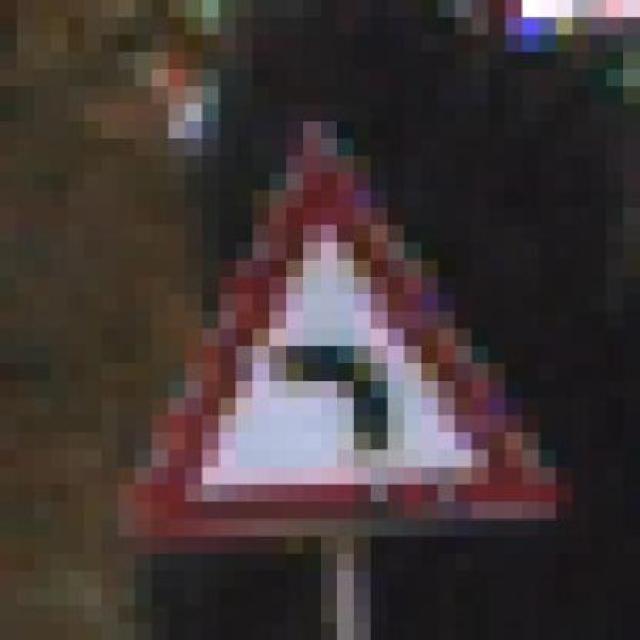Dangerous Left Curve Ahead: (101, 103, 573, 554)
